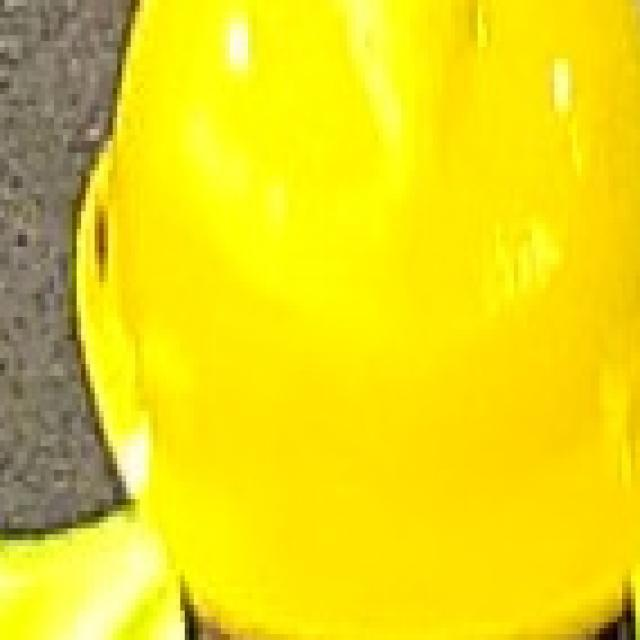yellow helmet: (64, 1, 639, 640)
